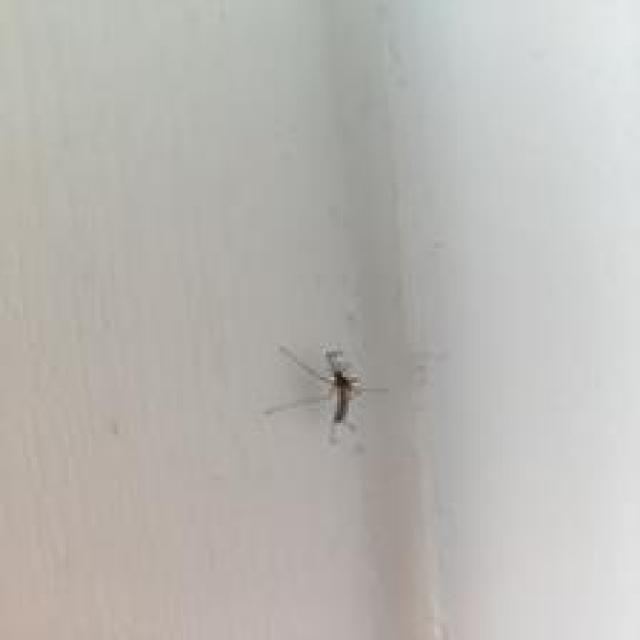Culex: (263, 343, 388, 443)
